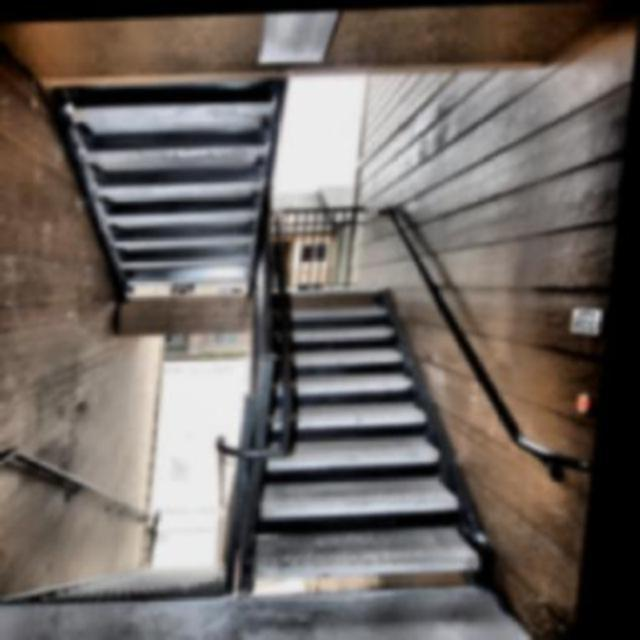stair: (249, 238, 534, 584)
